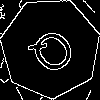Q: (25, 23, 85, 85)
